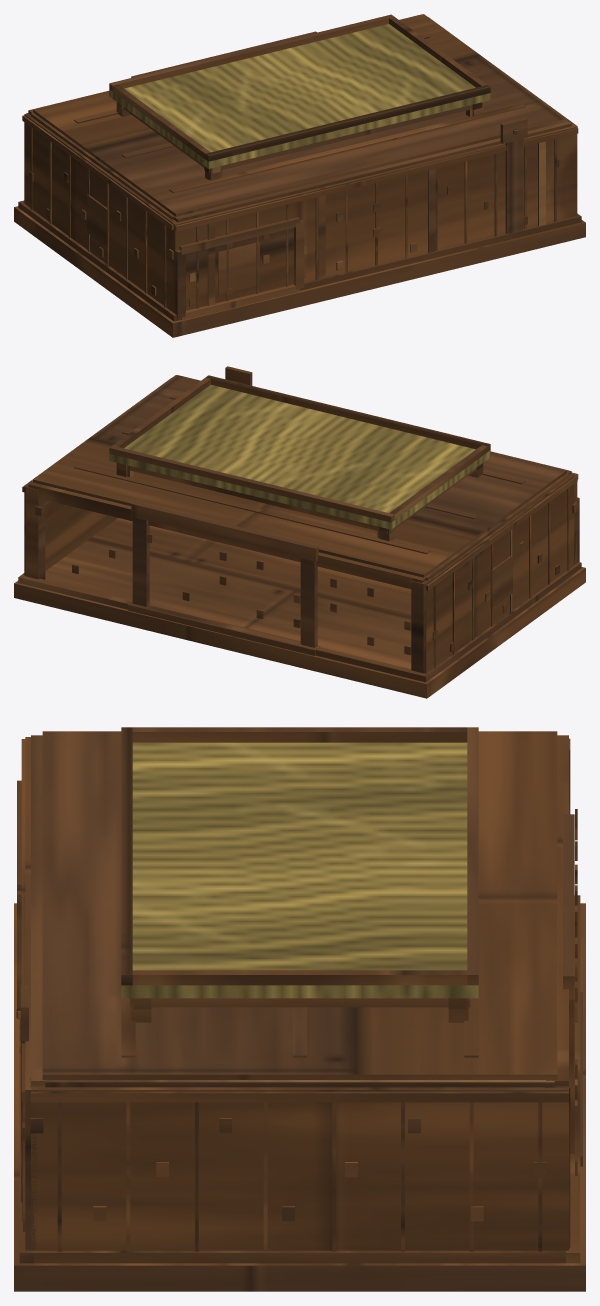
3 renders of one model, top to bottom at view 1: azimuth 30°, elevation 25°; view 2: azimuth 150°, elevation 25°; view 3: azimuth 270°, elevation 25°, orthographic. The views are drawn at different scales.
Visible parts, largest first — view 1: SM_HDBF_BoxFarm_Basic_LOD1; view 2: SM_HDBF_BoxFarm_Basic_LOD1; view 3: SM_HDBF_BoxFarm_Basic_LOD1.
Boxes of the visible parts, x1,y1,x2,y2 form: SM_HDBF_BoxFarm_Basic_LOD1: (14,14,585,337); SM_HDBF_BoxFarm_Basic_LOD1: (14,366,585,698); SM_HDBF_BoxFarm_Basic_LOD1: (14,727,585,1291).
Size of the model in its own units: 3 by 1 by 2.
2 materials, 2 textured.
